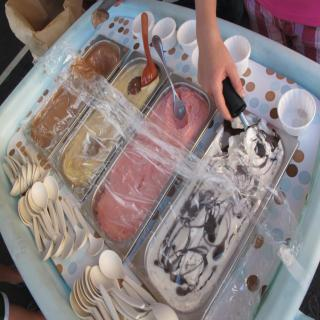Ice cream: (142, 116, 284, 312), (96, 86, 209, 242), (60, 58, 159, 194), (30, 44, 120, 148)
